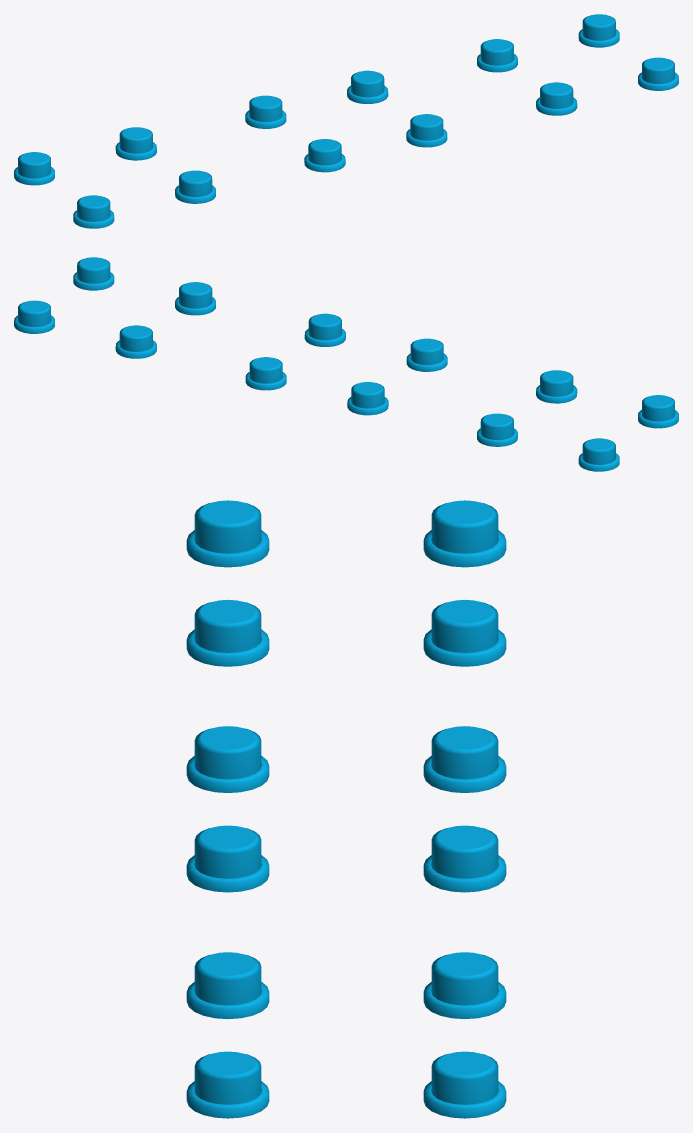
The model's file is Button_W_Grp_04_Lod0.fbx.
3 views of the same model, one above another, from view 1: azimuth 30°, elevation 25°; view 2: azimuth 150°, elevation 25°; view 3: azimuth 270°, elevation 25° (orthographic). The views are drawn at different scales.
Visible parts, largest first — view 1: Button_W_Grp_04_Lod0; view 2: Button_W_Grp_04_Lod0; view 3: Button_W_Grp_04_Lod0.
Part boxes in pixels (x1,y1,x2,y2): Button_W_Grp_04_Lod0: (14,14,678,228); Button_W_Grp_04_Lod0: (14,257,678,471); Button_W_Grp_04_Lod0: (186,500,506,1118).
Size of the model in its own units: 54.18 by 1.62 by 12.48.
